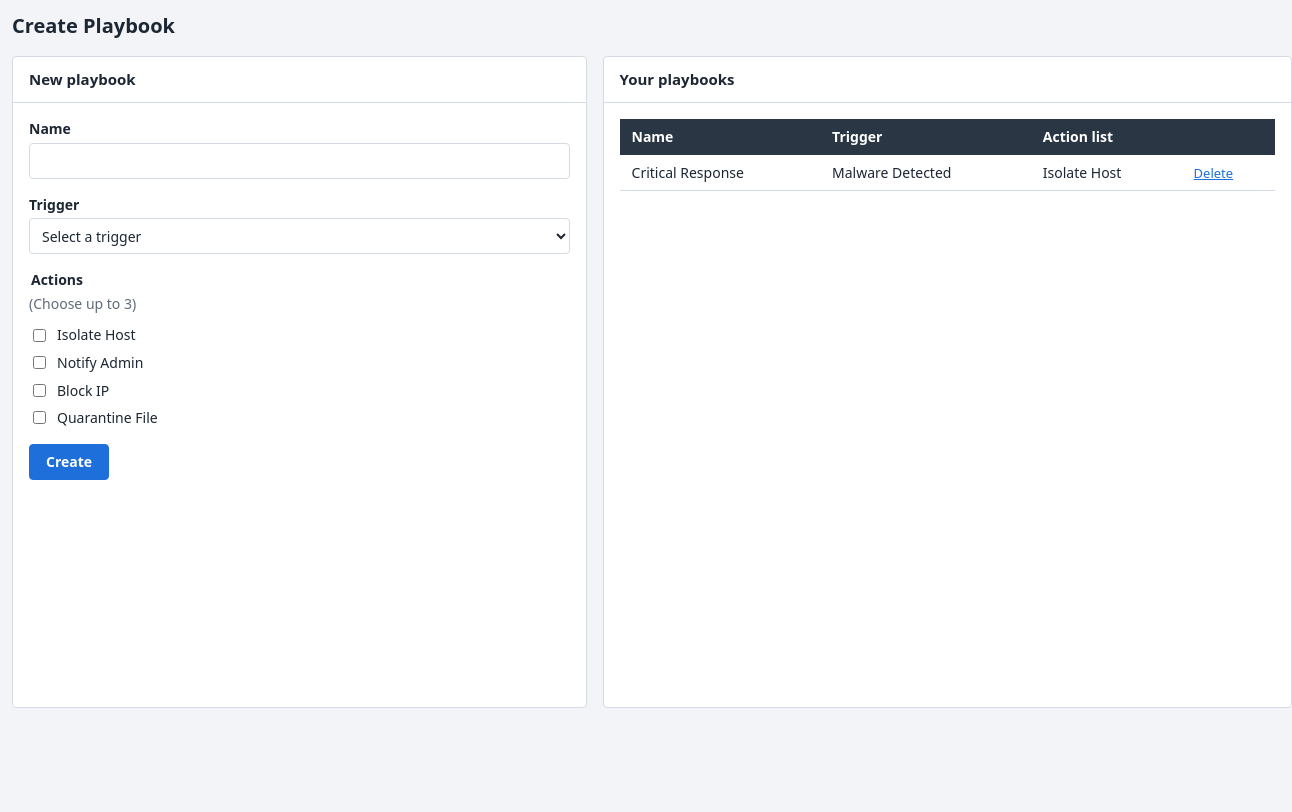
Test: CreatePlaybookPage › shows a name field error when the playbook name is taken
The image size is (1292, 812).
Expected: the checkbox labelled "Isolate Host" is shown, [33,329,46,342]
Type "Critical Response" into the field labelled "Name" at (299, 161), box [29,143,570,179]
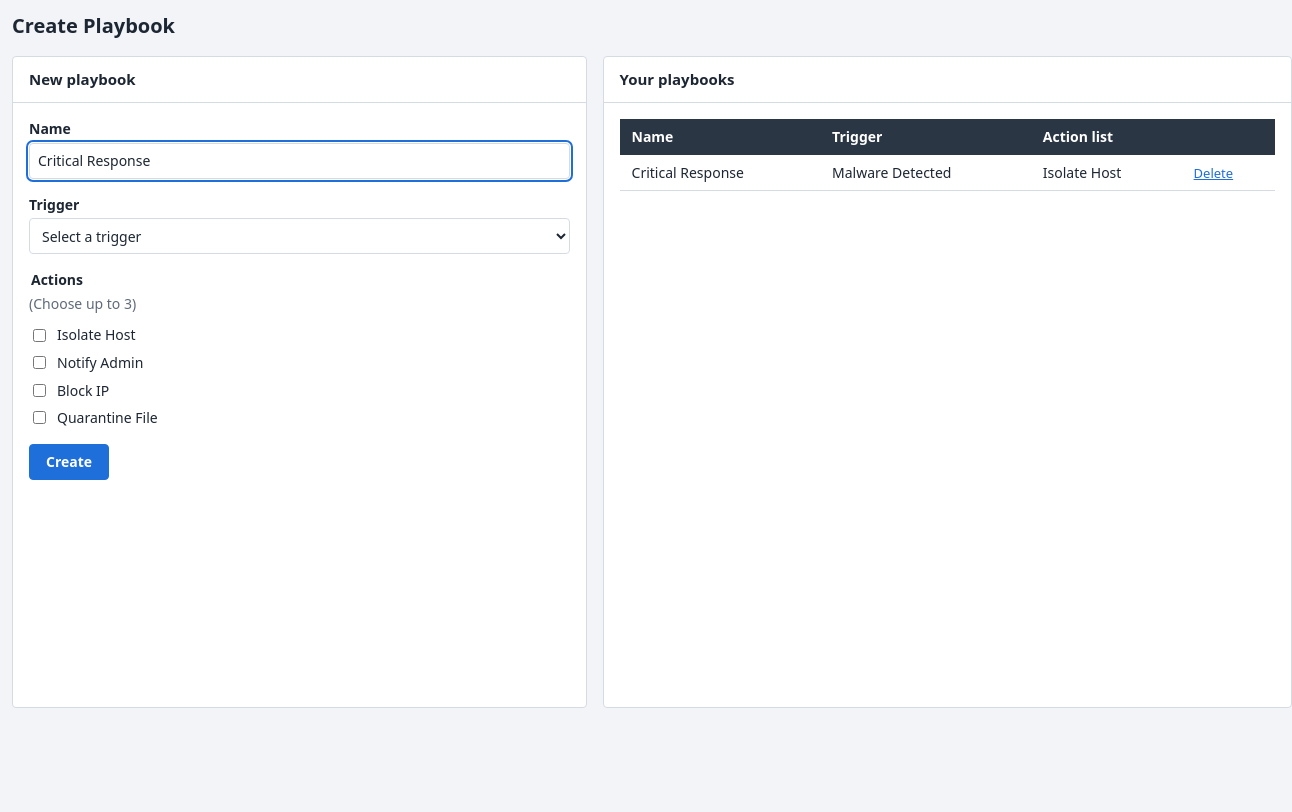
Select "Malware Detected" in the dropdown labelled "Trigger" at (299, 236), box [29,218,570,254]
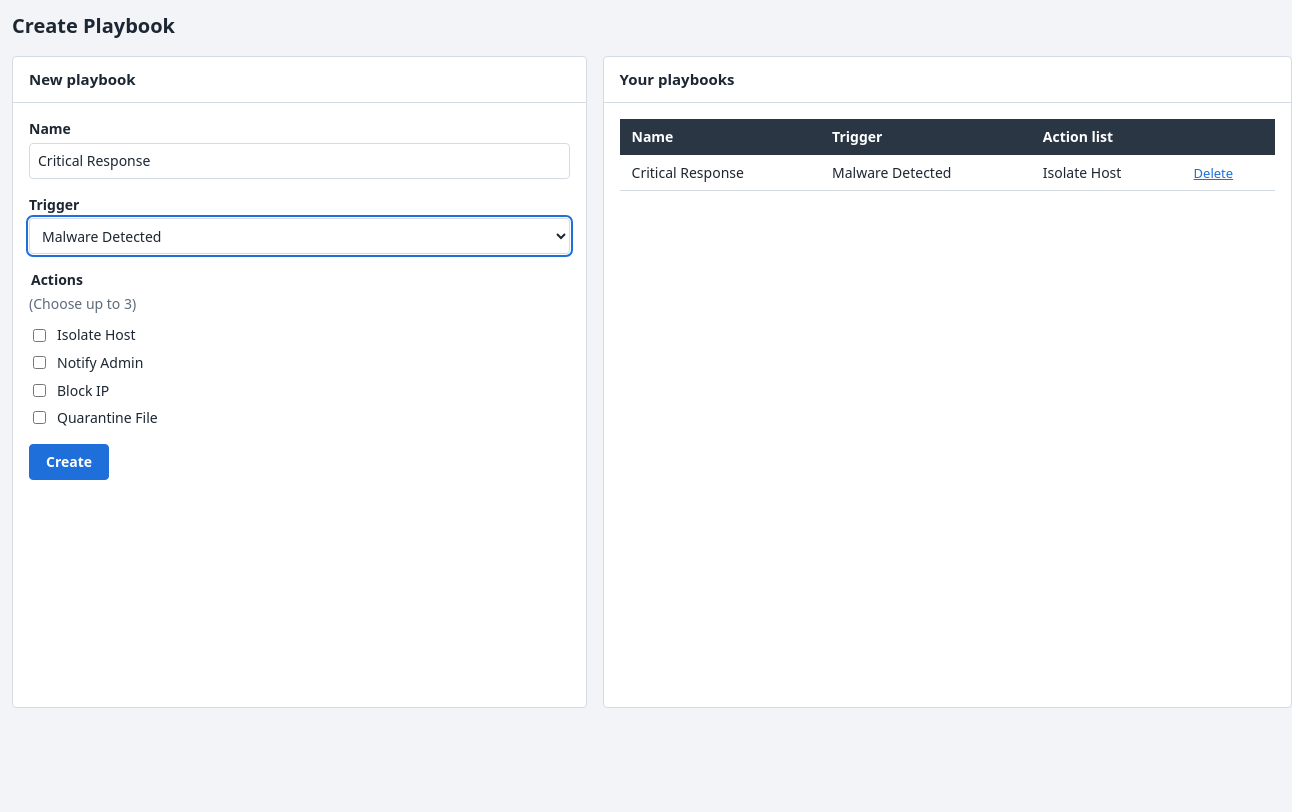
Click the checkbox labelled "Block IP" at (40, 390), box [33,384,46,397]
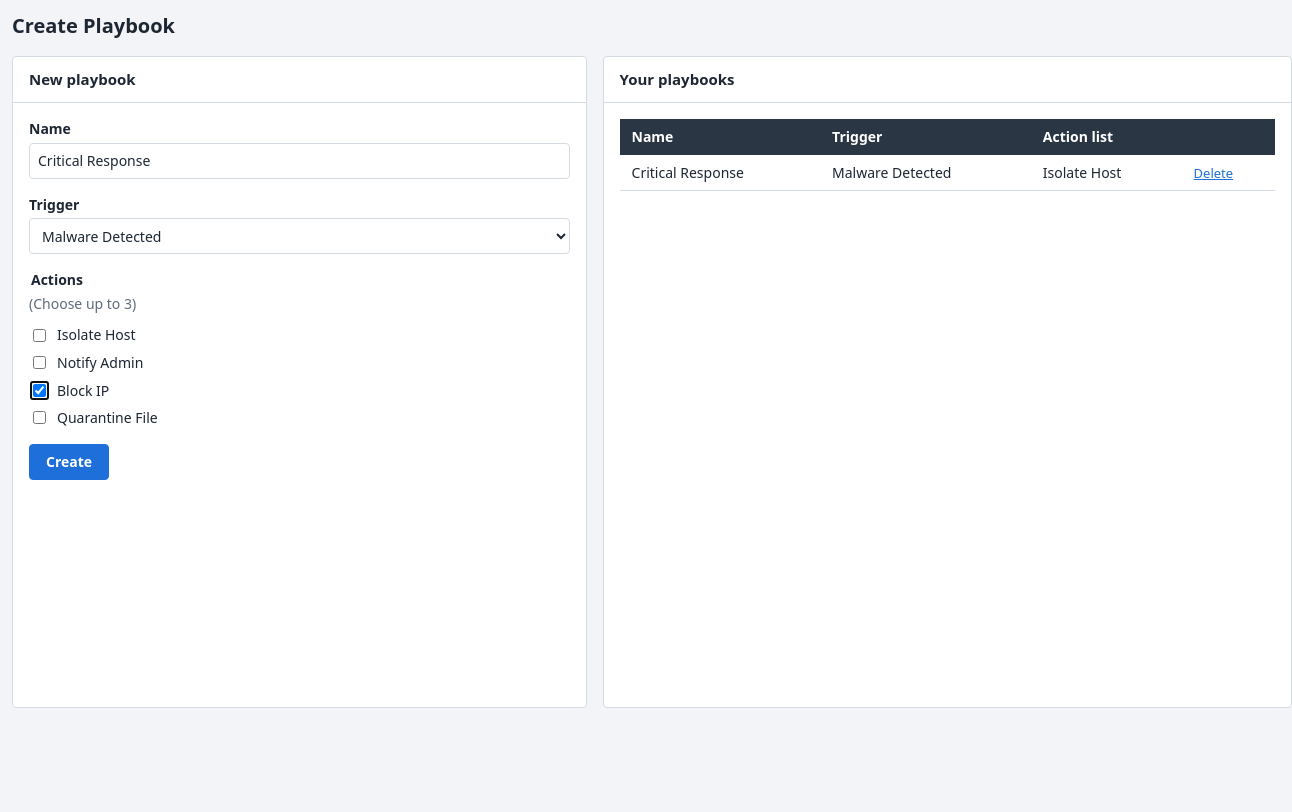
Click the button "Create" at (69, 462), box [29,444,109,480]
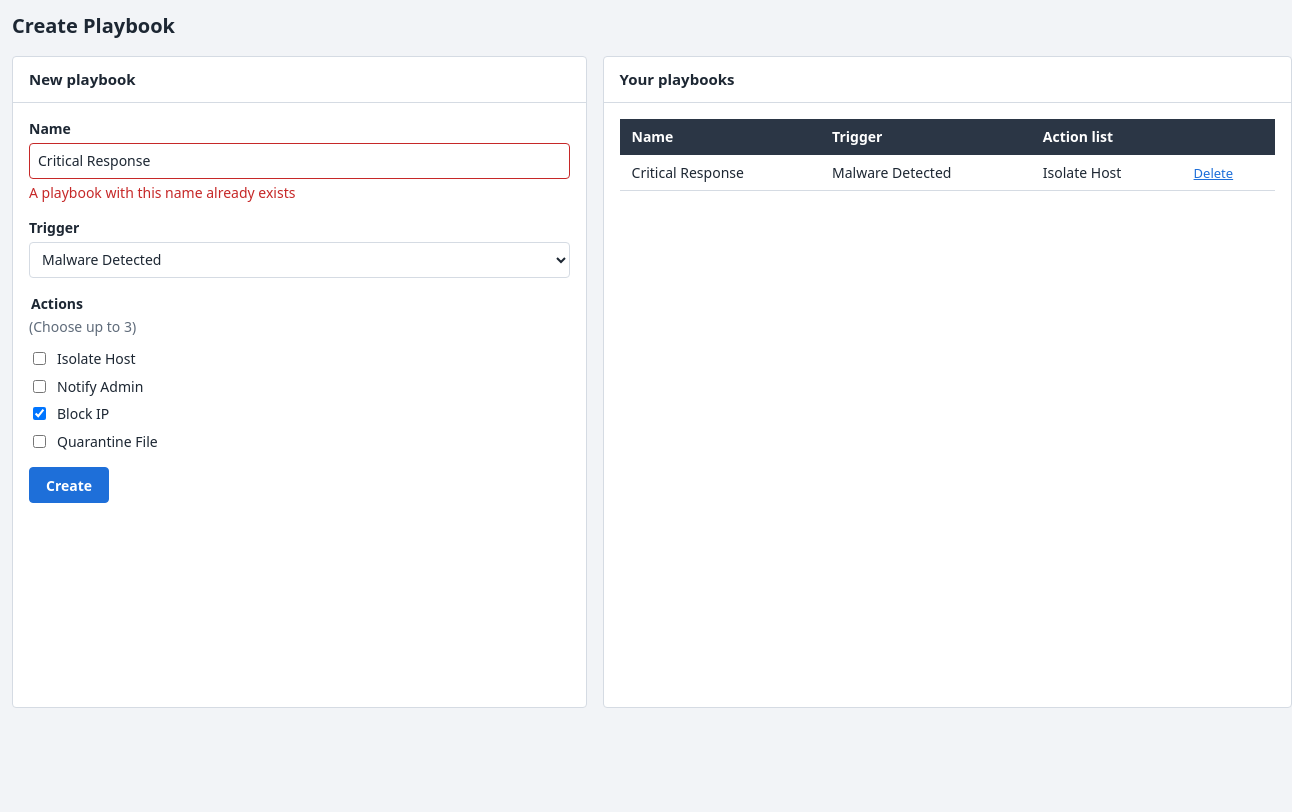
Now the text "A playbook with this name already exists" is shown, box [29,183,295,202]
